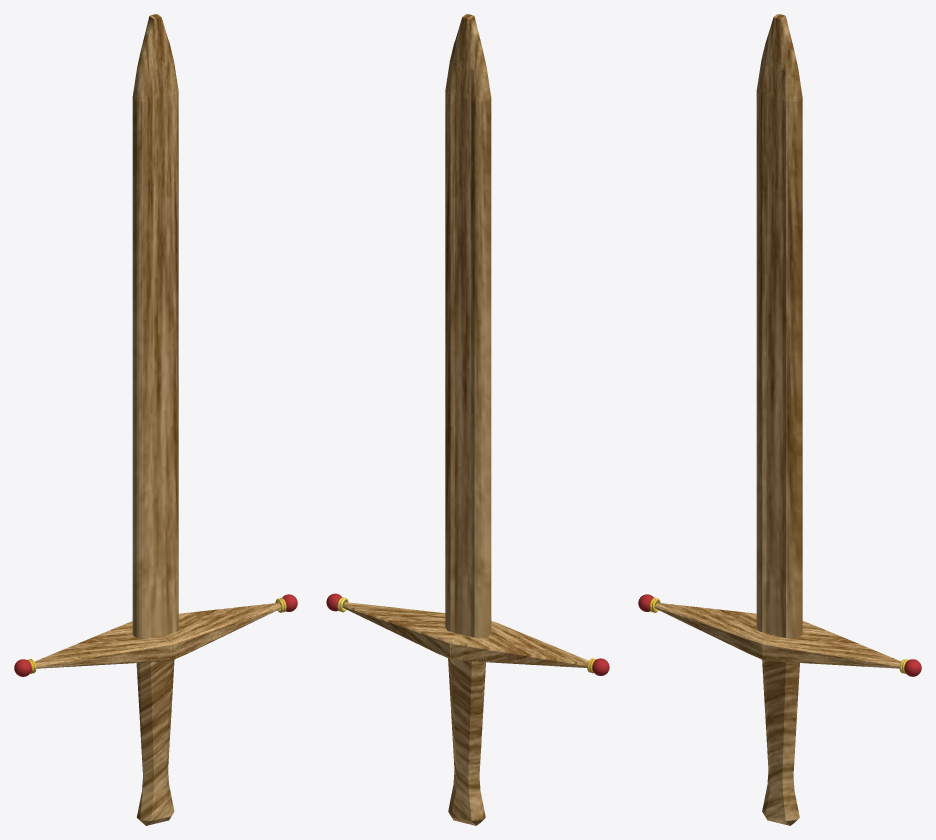
The model's file is Sword.fbx.
The picture shows the model from 3 angles, left to right: view 1: azimuth 30°, elevation 25°; view 2: azimuth 150°, elevation 25°; view 3: azimuth 330°, elevation 25°; orthographic projection.
Parts seen in each view (by area): view 1: Cube.001; view 2: Cube.001; view 3: Cube.001.
Boxes of the visible parts, x1,y1,x2,y2 form: Cube.001: (34,14,281,825); Cube.001: (342,14,588,825); Cube.001: (654,14,901,825).
Size of the model in its own units: 322 by 881 by 67.47.
